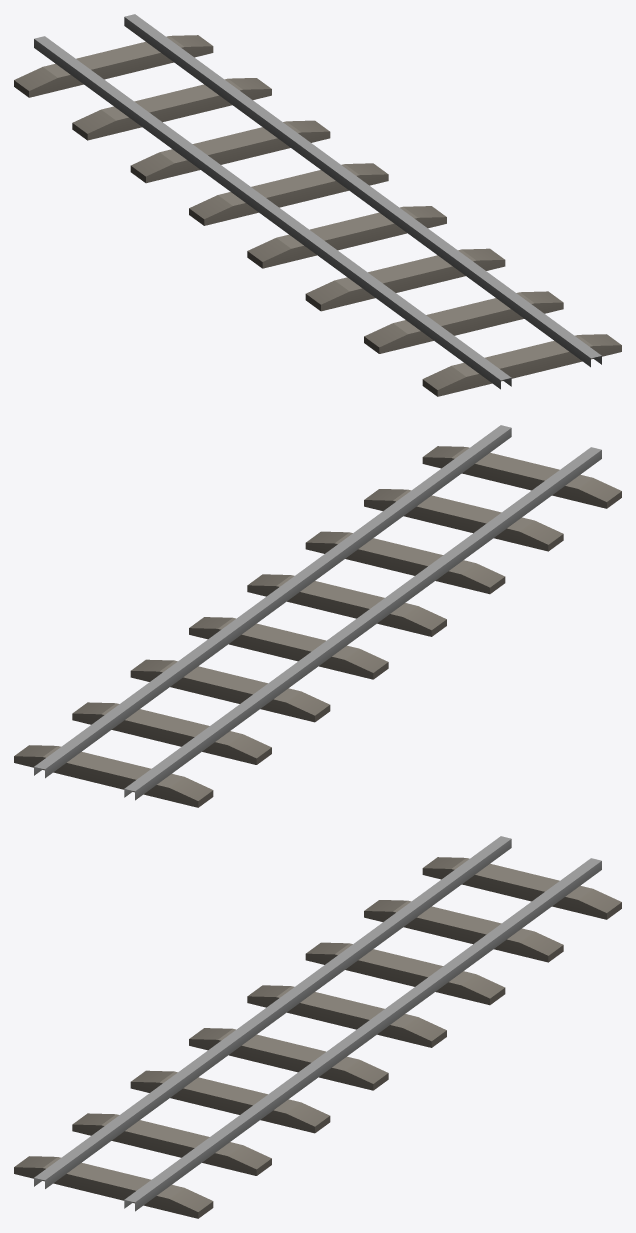
The model's file is Railway_Line_M.fbx.
The picture shows the model from 3 angles, top to bottom: view 1: azimuth 30°, elevation 25°; view 2: azimuth 150°, elevation 25°; view 3: azimuth 330°, elevation 25°; orthographic projection.
Visible parts, largest first — view 1: Railway_Line_M; view 2: Railway_Line_M; view 3: Railway_Line_M.
Boxes of the visible parts, x1,y1,x2,y2 form: Railway_Line_M: (14, 14, 621, 396); Railway_Line_M: (14, 425, 621, 807); Railway_Line_M: (14, 836, 621, 1218).
Size of the model in its own units: 452 by 51.79 by 1984.
